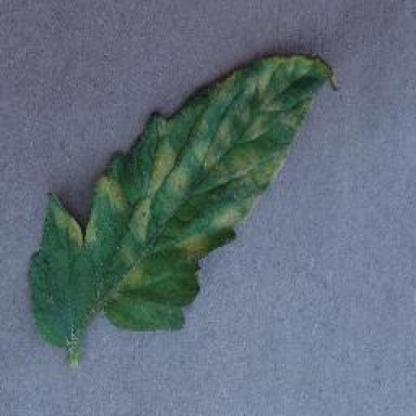Tomato_Leaf_Mold: (30, 57, 334, 343)
